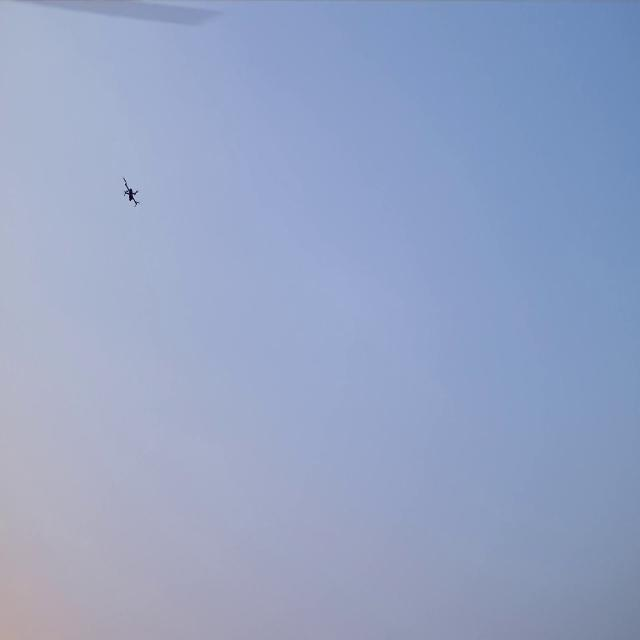UAV: (122, 175, 142, 208)
